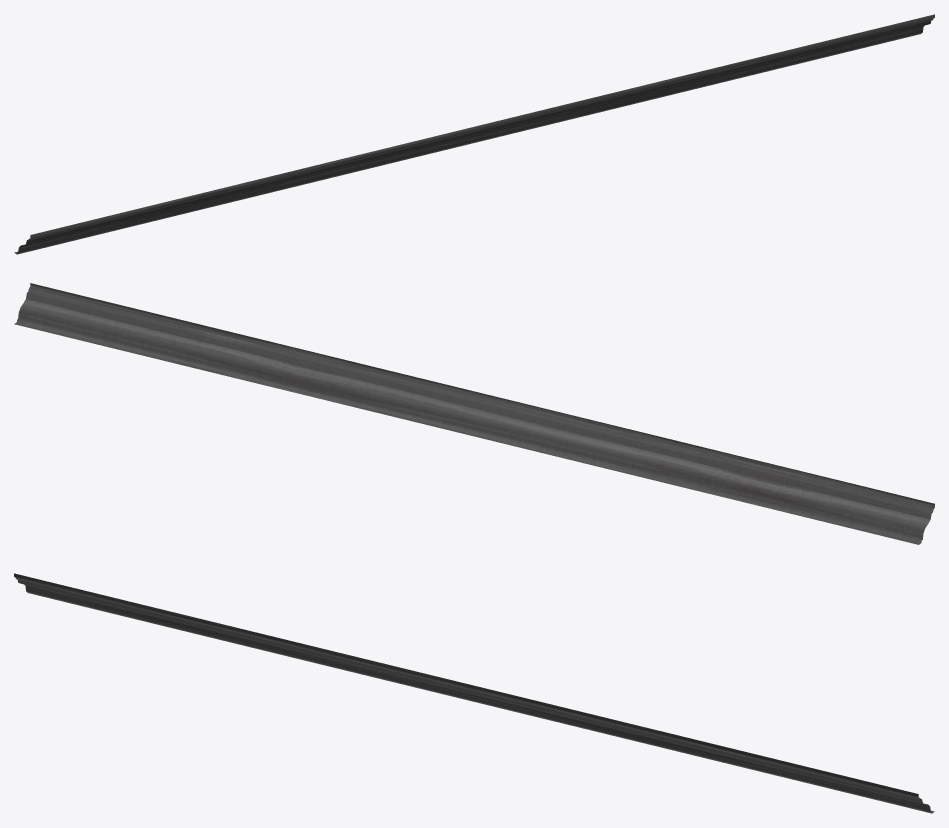
The model's file is SM_Moulding_Ceiling.fbx.
3 views of the same model, one above another, from view 1: azimuth 30°, elevation 25°; view 2: azimuth 150°, elevation 25°; view 3: azimuth 330°, elevation 25° (orthographic).
Visible parts, largest first — view 1: Collapsed_CeilingMoulding; view 2: Collapsed_CeilingMoulding; view 3: Collapsed_CeilingMoulding.
Boxes of the visible parts, box(x1,y1,x2,y2) form: Collapsed_CeilingMoulding: box(14, 14, 934, 254); Collapsed_CeilingMoulding: box(14, 283, 934, 544); Collapsed_CeilingMoulding: box(14, 573, 934, 813).
Bounding box in the file's own units: 200 × 6.2 × 6.2.
